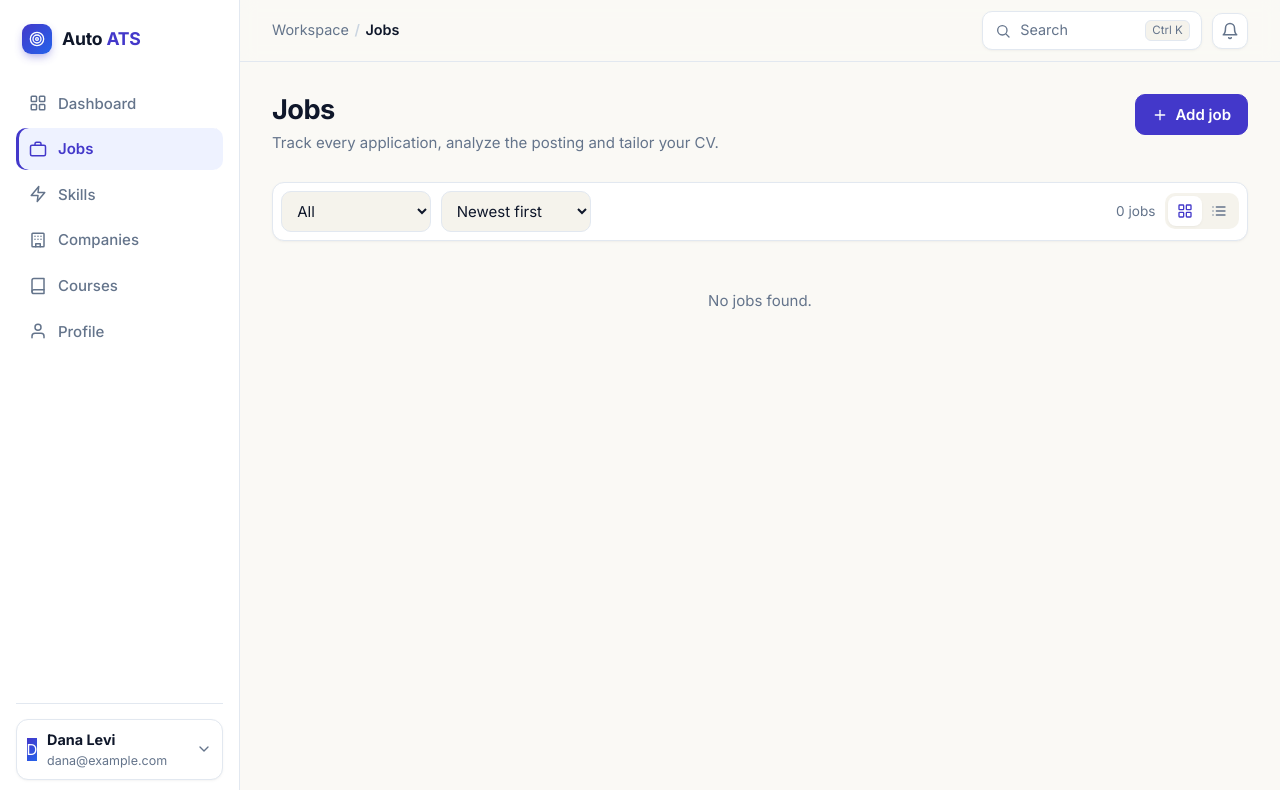
Test: JobsPage › GivenJobsPage_WhenClickingAddJob_ThenFormOpens
The width and height of the screenshot is (1280, 790).
Click the link "Add job".
click(1192, 115)  # box [1135,94,1248,135]
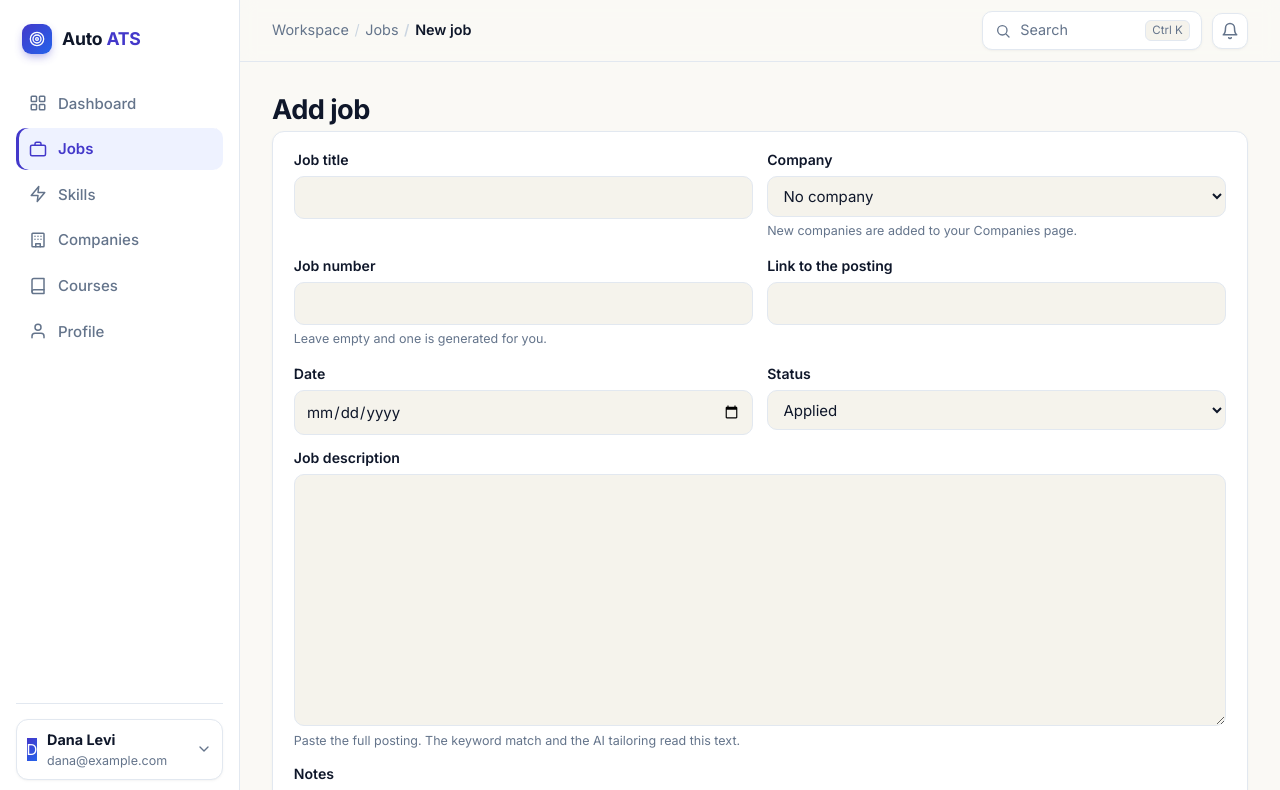
expect the heading "Add job" is shown: met, box [272,93,370,126]
